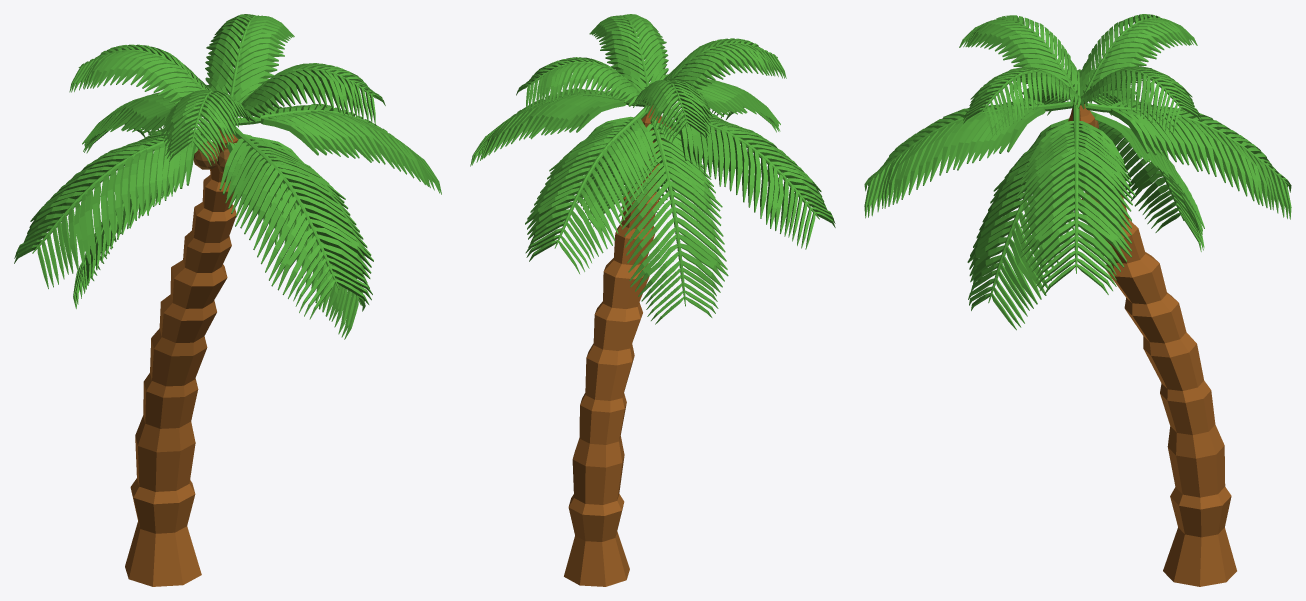
Rendered from ENVI_LV2-3_Kelapa3 1.fbx.
3 renders of one model, left to right at view 1: azimuth 30°, elevation 25°; view 2: azimuth 150°, elevation 25°; view 3: azimuth 270°, elevation 25°, orthographic. The views are drawn at different scales.
Parts seen in each view (by area): view 1: Kelapa3; view 2: Kelapa3; view 3: Kelapa3.
Part boxes in pixels (box(x1,y1,x2,y2)): Kelapa3: box(14, 14, 441, 586); Kelapa3: box(470, 14, 835, 586); Kelapa3: box(864, 14, 1291, 586).
Size of the model in its own units: 532 by 720 by 532.
